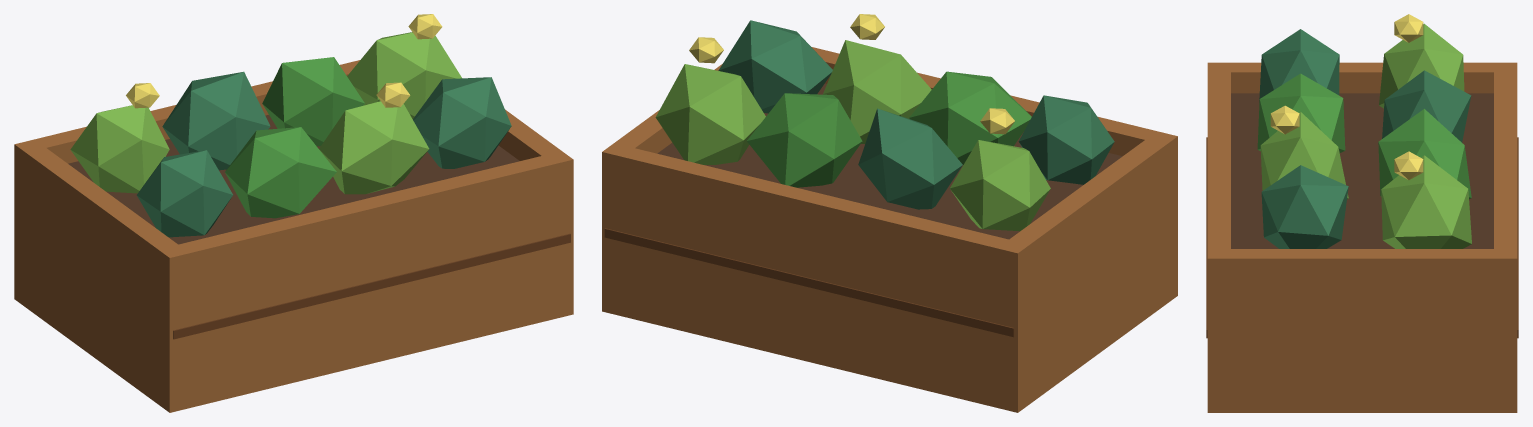
Rendered from prop-herb-crate.glb.
The picture shows the model from 3 angles, left to right: view 1: azimuth 30°, elevation 25°; view 2: azimuth 150°, elevation 25°; view 3: azimuth 270°, elevation 25°; orthographic projection. The views are drawn at different scales.
Visible parts, largest first — view 1: HerbCrate; view 2: HerbCrate; view 3: HerbCrate.
Boxes of the visible parts, left/top/right/bottom form: HerbCrate: left=14, top=14, right=573, bottom=412; HerbCrate: left=602, top=14, right=1177, bottom=412; HerbCrate: left=1206, top=14, right=1518, bottom=412.
Size of the model in its own units: 0.6 by 0.3353 by 0.404.
